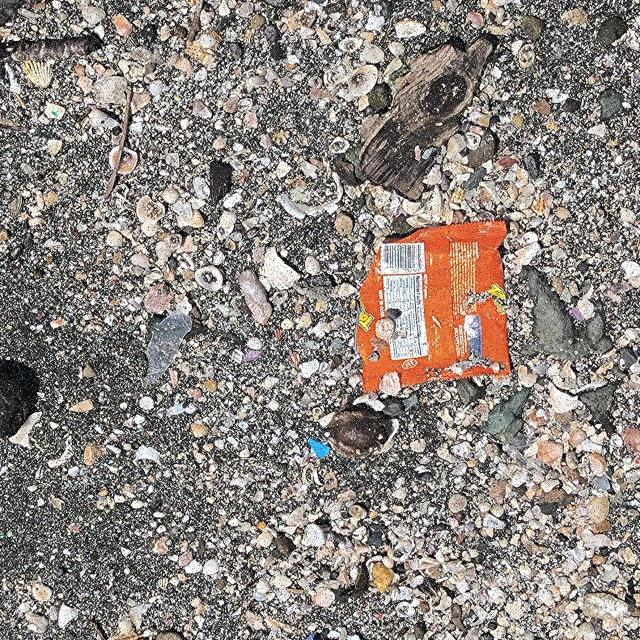plastic_waste: (358, 221, 511, 393)
